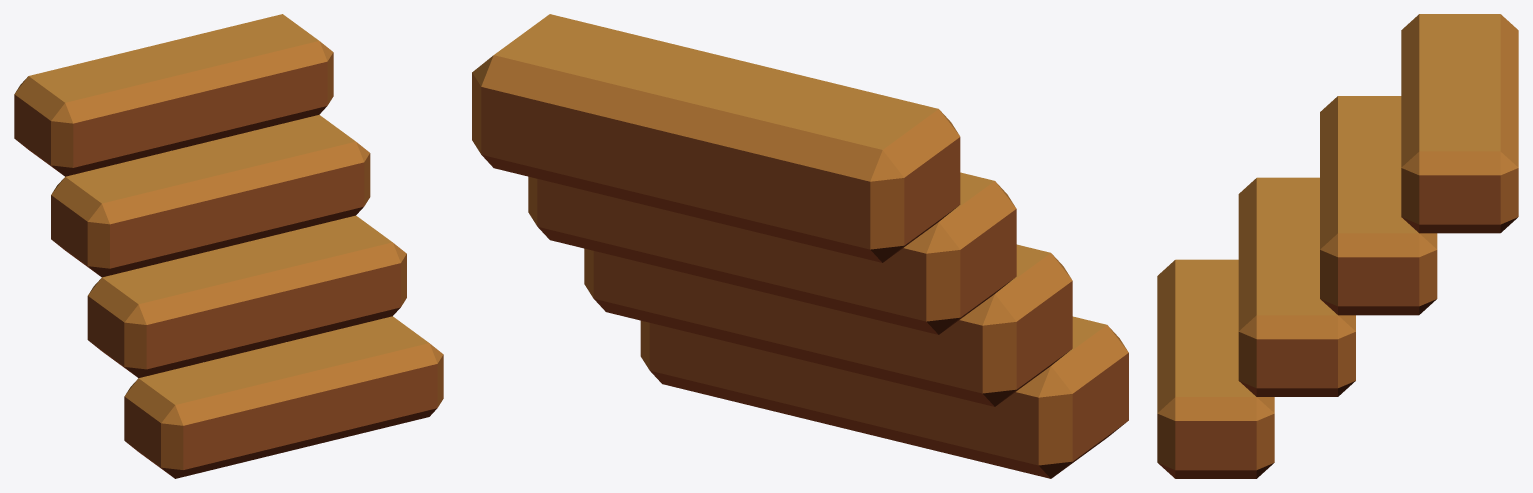
Rendered from m_kub_wood_stairs_only.FBX.
3 renders of one model, left to right at view 1: azimuth 30°, elevation 25°; view 2: azimuth 150°, elevation 25°; view 3: azimuth 270°, elevation 25°, orthographic. The views are drawn at different scales.
Visible parts, largest first — view 1: m_kub_wood_stairs_only; view 2: m_kub_wood_stairs_only; view 3: m_kub_wood_stairs_only.
Boxes of the visible parts, x1=… form: m_kub_wood_stairs_only: x1=14, y1=14, x2=443, y2=478; m_kub_wood_stairs_only: x1=472, y1=14, x2=1128, y2=478; m_kub_wood_stairs_only: x1=1157, y1=14, x2=1518, y2=478.
Bounding box in the file's own units: 2 × 2 × 2.
